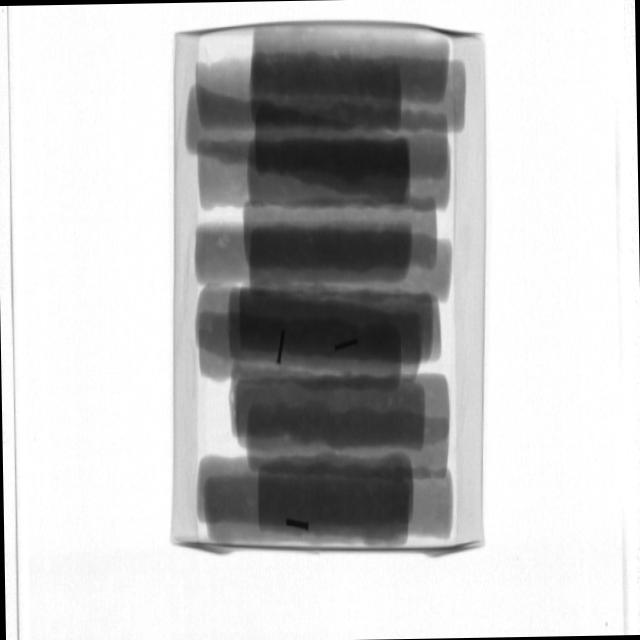ym: (335, 339, 361, 353), (286, 519, 311, 533), (277, 329, 286, 365)
